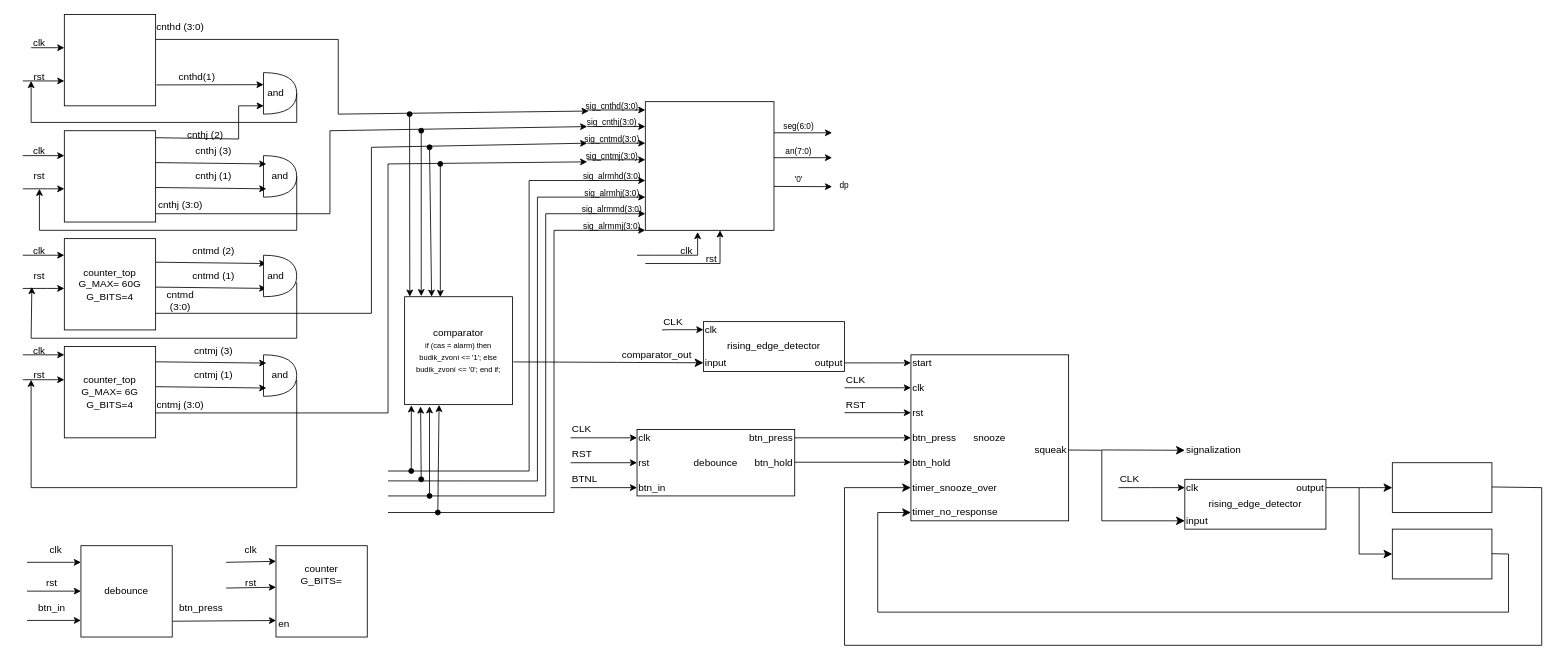
The diagram is 1565 pixels wide and 668 high, and some of its shapes have lost their labels. The centre of each missing label's shape, as x and y in pixels:
counter_top G_MAX= 3600G G_BITS=4: (109,60)
counter_top G_MAX= 360G G_BITS=4: (109,176)
display_driver: (709,165)
timer 2 minute: (1441,553)
timer 5 minute: (1441,487)
